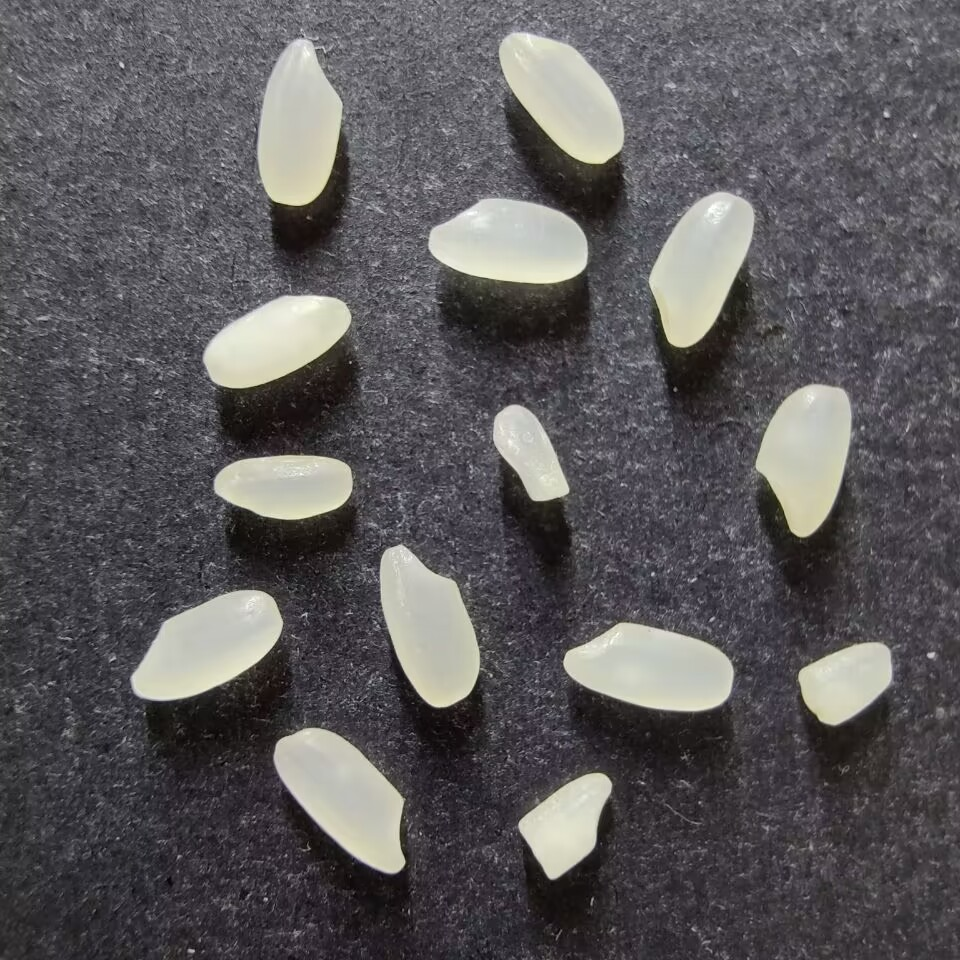broken: (516, 770, 612, 881), (797, 641, 893, 727), (491, 403, 570, 502)
rice: (273, 727, 405, 874), (130, 589, 283, 701), (377, 544, 480, 708), (647, 191, 754, 348), (497, 32, 624, 164), (562, 622, 734, 712), (754, 384, 851, 537), (256, 38, 342, 206), (202, 294, 349, 389), (427, 197, 587, 284), (212, 454, 352, 520)
